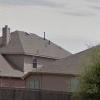Chimney: (2, 21, 15, 54)
